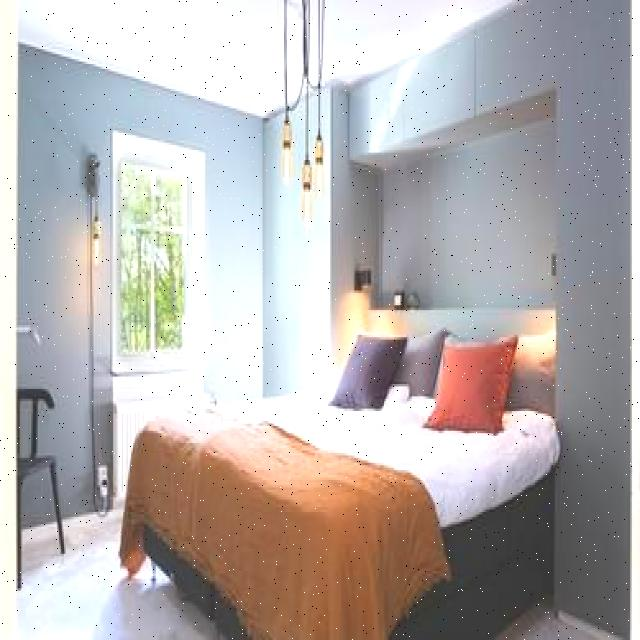bed: (115, 325, 556, 640)
